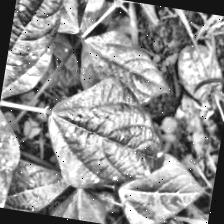Bean Rust: (41, 68, 172, 202), (1, 0, 66, 107), (0, 105, 28, 209)
